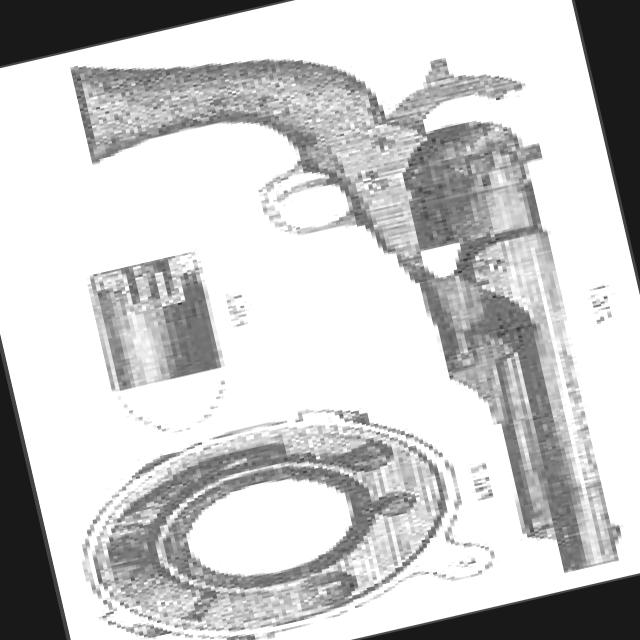handgun: (76, 0, 639, 639)
